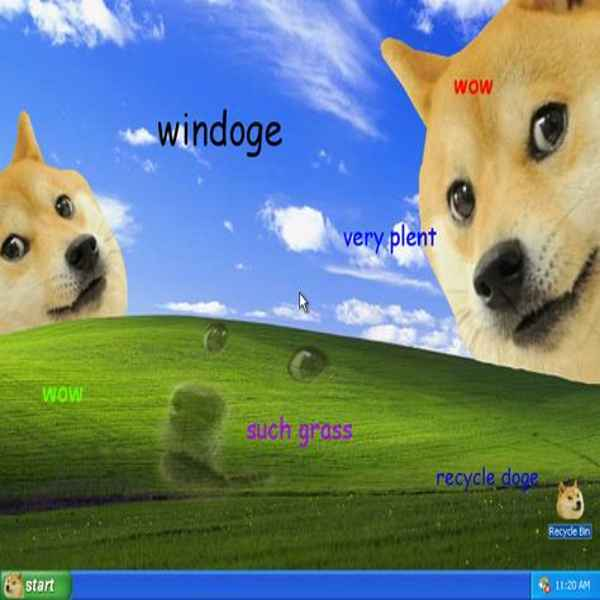doge: (367, 19, 600, 375), (159, 311, 349, 506), (1, 133, 116, 325), (546, 478, 592, 524)
